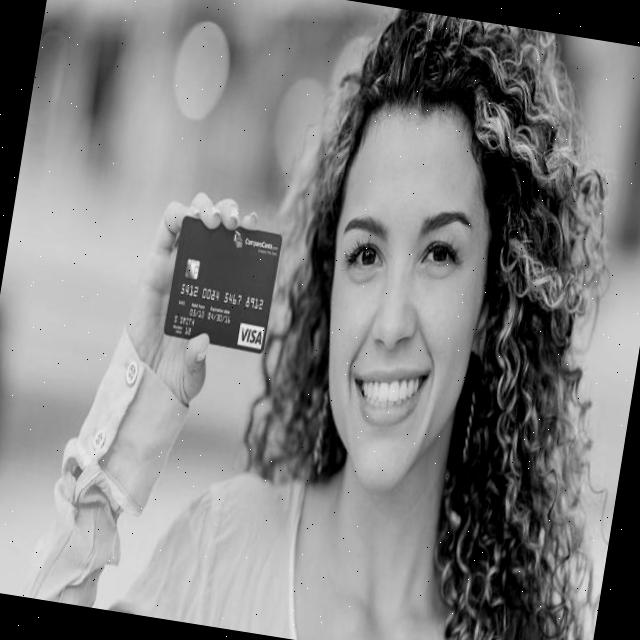card: (155, 210, 284, 356)
